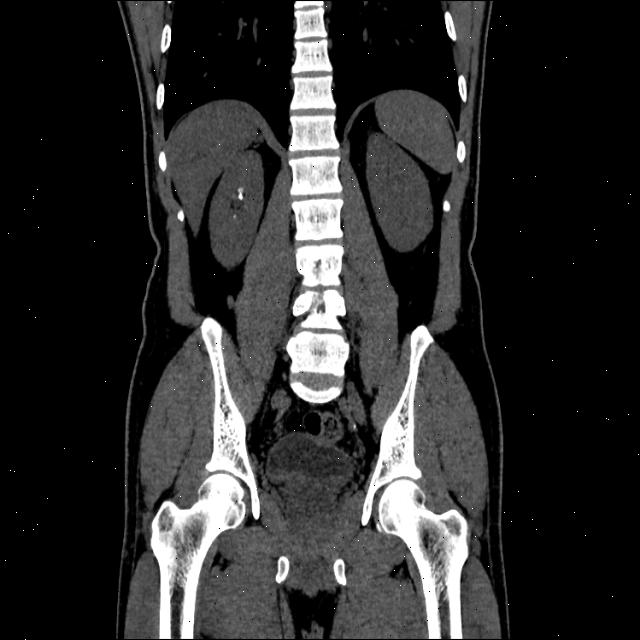kidneystone: (238, 187, 244, 199)
